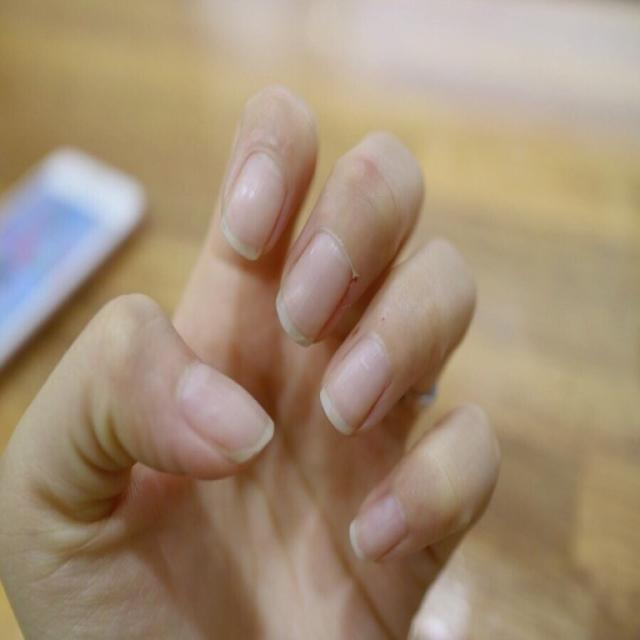Nail: (176, 364, 274, 463), (276, 232, 354, 345), (320, 334, 390, 435), (221, 152, 286, 260), (350, 493, 408, 562)
